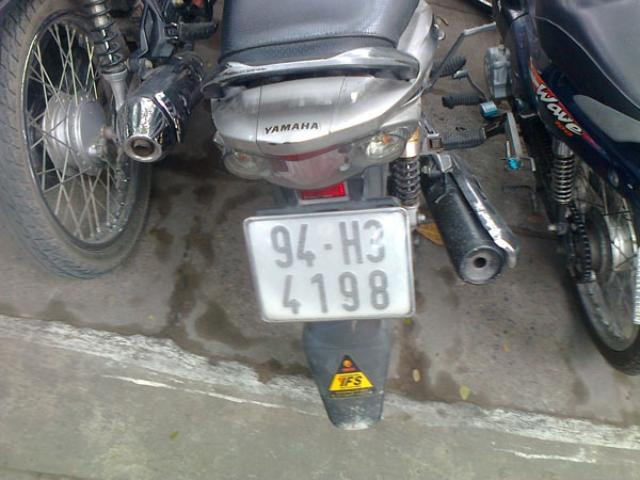plate: (238, 210, 426, 332)
